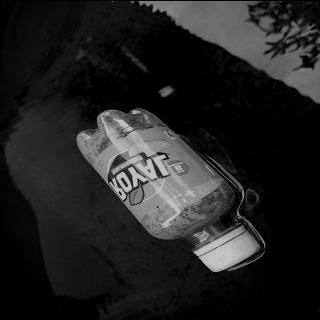bottle: (72, 105, 264, 273)
